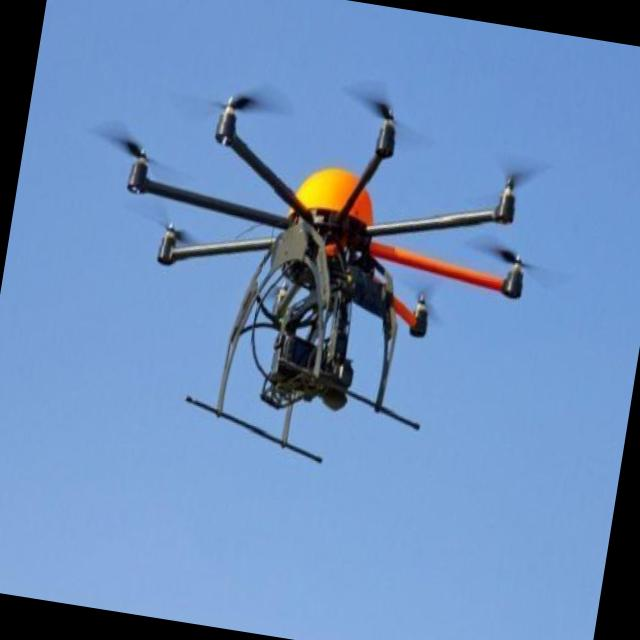drone: (89, 74, 548, 493)
